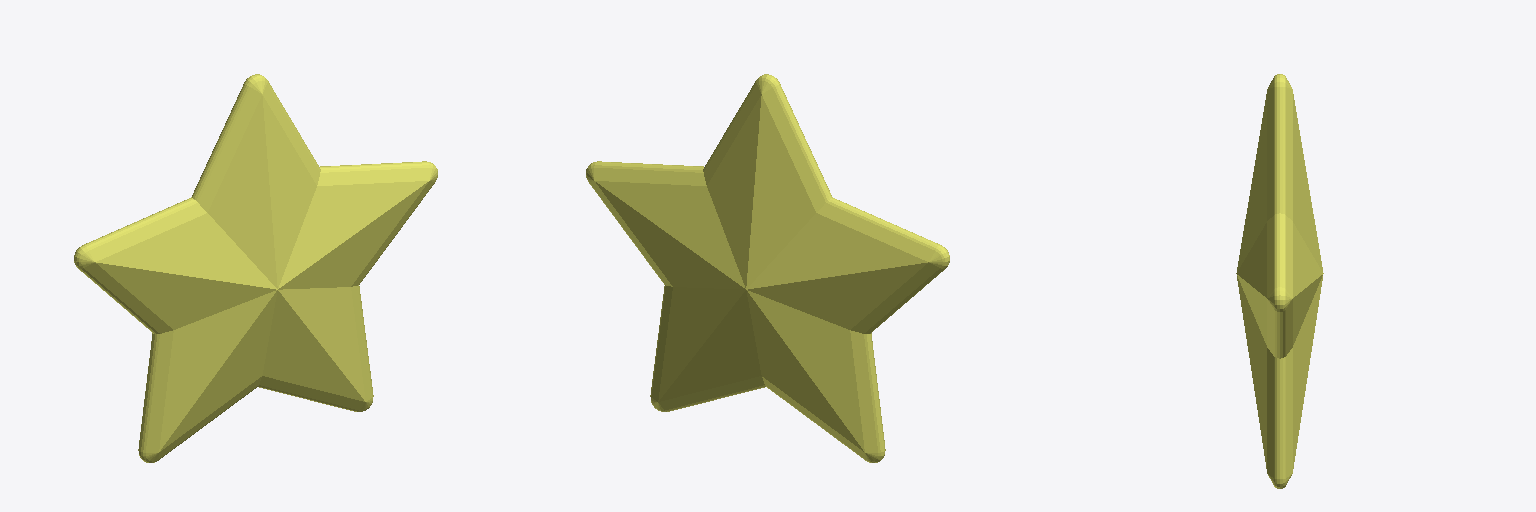
3 renders of one model, left to right at view 1: azimuth 30°, elevation 25°; view 2: azimuth 150°, elevation 25°; view 3: azimuth 270°, elevation 25°, orthographic.
Parts seen in each view (by area): view 1: Star; view 2: Star; view 3: Star.
Part boxes in pixels (x1,y1,x2,y2): Star: (74,74,437,462); Star: (586,74,949,462); Star: (1236,74,1323,488).
Size of the model in its own units: 0.7207 by 0.6878 by 0.15.
Materials: 1 (1 with a texture image).